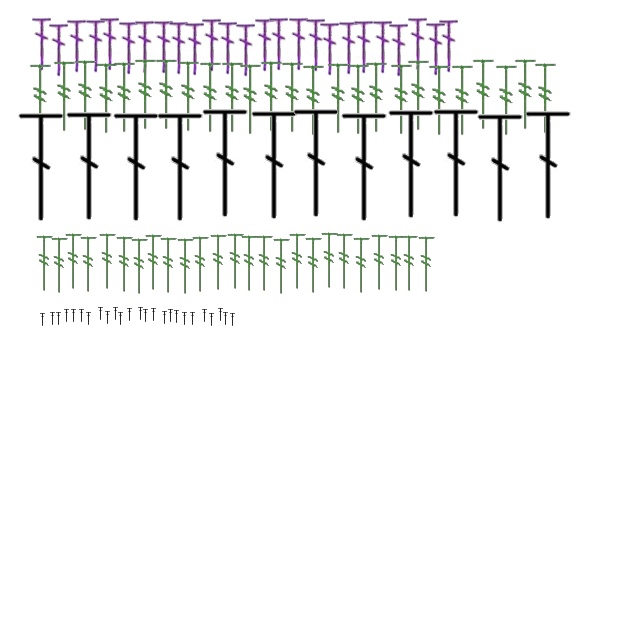double treble: (112, 109, 162, 225), (156, 109, 206, 225), (250, 107, 300, 223), (292, 105, 342, 221), (340, 109, 390, 225), (432, 105, 482, 221), (476, 110, 526, 226), (524, 107, 574, 223), (18, 109, 66, 225), (66, 108, 114, 224), (202, 105, 250, 221), (388, 106, 436, 222), (32, 15, 52, 71), (86, 17, 106, 73), (100, 15, 120, 71), (154, 18, 174, 74), (202, 16, 222, 72), (218, 19, 238, 75), (236, 21, 256, 77), (306, 16, 326, 72), (320, 20, 340, 76), (354, 18, 374, 74), (408, 15, 428, 71), (426, 20, 446, 76), (50, 21, 68, 77), (68, 17, 86, 73), (120, 19, 138, 75), (136, 18, 154, 74), (170, 19, 188, 75), (186, 20, 204, 76), (256, 16, 274, 72), (270, 15, 288, 71), (290, 15, 308, 71), (340, 19, 358, 75), (374, 18, 392, 74), (390, 21, 408, 77), (440, 17, 458, 73), (50, 312, 56, 326), (56, 312, 62, 326), (86, 312, 92, 326), (118, 312, 124, 326), (174, 310, 180, 324), (182, 312, 188, 326), (190, 312, 196, 326), (218, 308, 224, 322), (40, 314, 46, 326), (64, 310, 70, 322), (98, 308, 104, 320), (138, 308, 144, 320), (162, 312, 168, 324), (168, 310, 174, 322), (202, 310, 208, 322), (230, 314, 236, 326), (128, 308, 132, 322), (152, 308, 156, 322), (224, 312, 228, 326), (72, 310, 76, 322), (80, 310, 84, 322), (106, 312, 110, 324), (114, 308, 118, 320), (144, 310, 148, 322), (210, 314, 214, 326)
fan: (132, 56, 160, 134), (258, 58, 286, 136), (300, 62, 328, 140), (426, 62, 454, 140), (470, 56, 498, 134), (512, 56, 540, 134), (532, 60, 560, 138), (72, 58, 100, 134), (388, 62, 416, 138), (52, 58, 78, 136), (94, 60, 120, 138), (154, 56, 180, 134), (176, 58, 202, 136), (326, 60, 352, 138), (450, 62, 476, 140), (494, 62, 520, 140), (28, 62, 54, 138), (112, 60, 138, 136), (198, 60, 224, 136), (220, 60, 246, 136), (238, 62, 264, 138), (280, 60, 306, 136), (346, 62, 372, 138), (364, 60, 390, 136), (406, 58, 432, 134), (78, 234, 100, 296), (114, 234, 136, 296), (190, 234, 212, 296), (208, 232, 230, 294), (416, 234, 438, 296), (34, 234, 56, 294), (158, 236, 180, 296), (254, 234, 276, 294), (334, 232, 356, 292), (386, 234, 408, 294), (130, 236, 150, 298), (144, 232, 164, 294), (176, 236, 196, 298), (272, 236, 292, 298), (320, 230, 340, 292), (370, 232, 390, 294), (50, 236, 70, 296), (64, 232, 84, 292), (98, 232, 118, 292), (226, 232, 246, 292), (240, 234, 260, 294), (288, 232, 308, 292), (304, 236, 324, 296), (352, 236, 372, 296), (400, 234, 420, 294)
